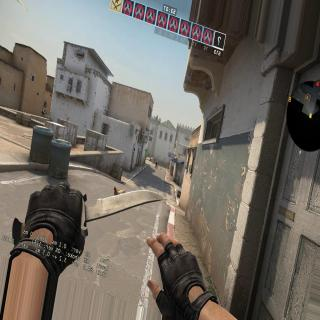CT-Body: (155, 161, 158, 168)
CT-Head: (157, 161, 158, 163)
